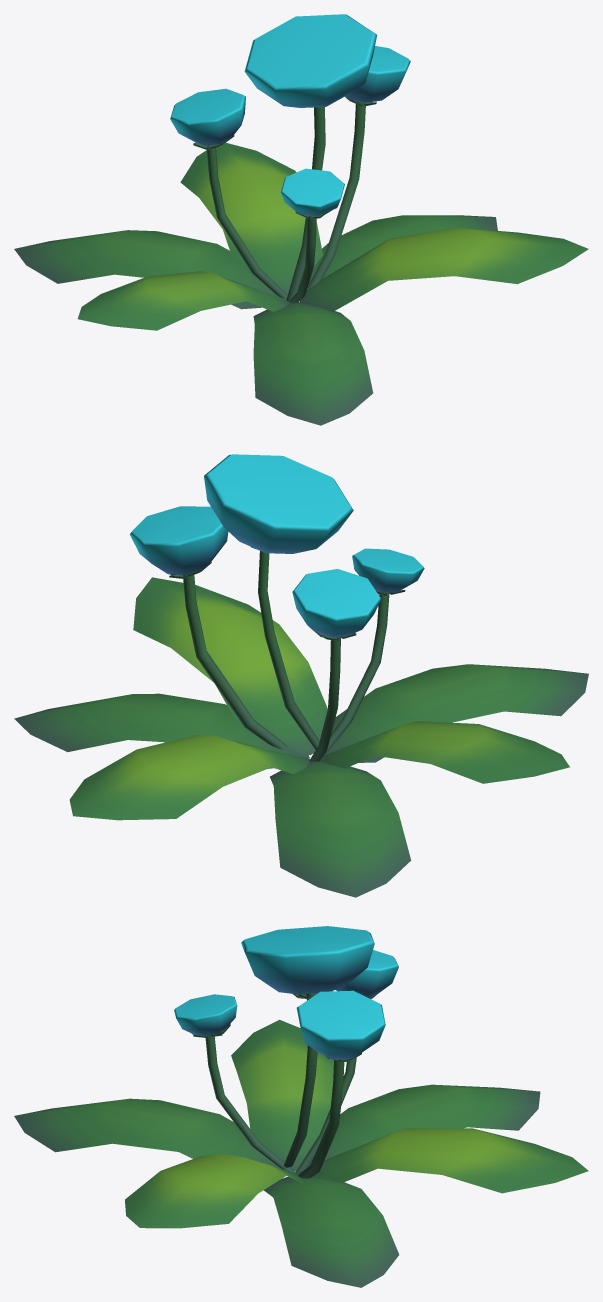
Rendered from flower_001_base_material_0.fbx.
3 renders of one model, top to bottom at view 1: azimuth 30°, elevation 25°; view 2: azimuth 150°, elevation 25°; view 3: azimuth 270°, elevation 25°, orthographic. The views are drawn at different scales.
Visible parts, largest first — view 1: flower_001_base_material_0; view 2: flower_001_base_material_0; view 3: flower_001_base_material_0.
Boxes of the visible parts, bbox=[...] form: flower_001_base_material_0: bbox=[14, 14, 588, 425]; flower_001_base_material_0: bbox=[14, 454, 588, 897]; flower_001_base_material_0: bbox=[14, 926, 588, 1287].
Bounding box in the file's own units: 3.58 × 3.81 × 1.94.
1 material, 1 textured.
